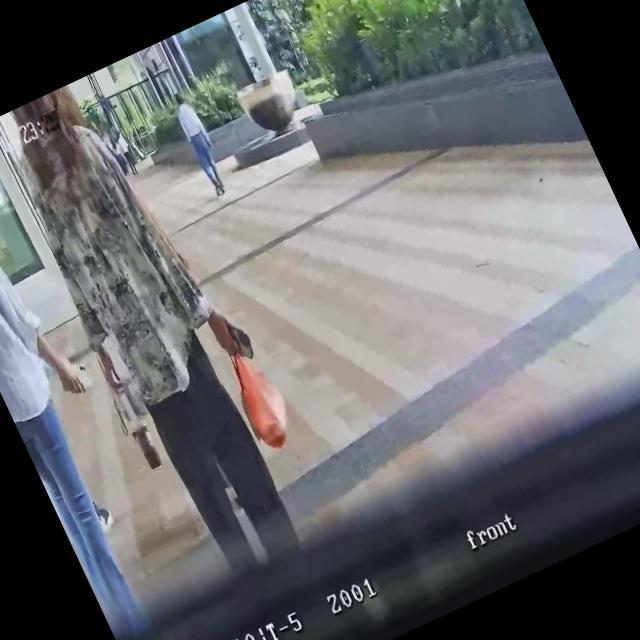person: (0, 60, 338, 591), (0, 132, 190, 640), (166, 86, 235, 200), (110, 128, 141, 178)
